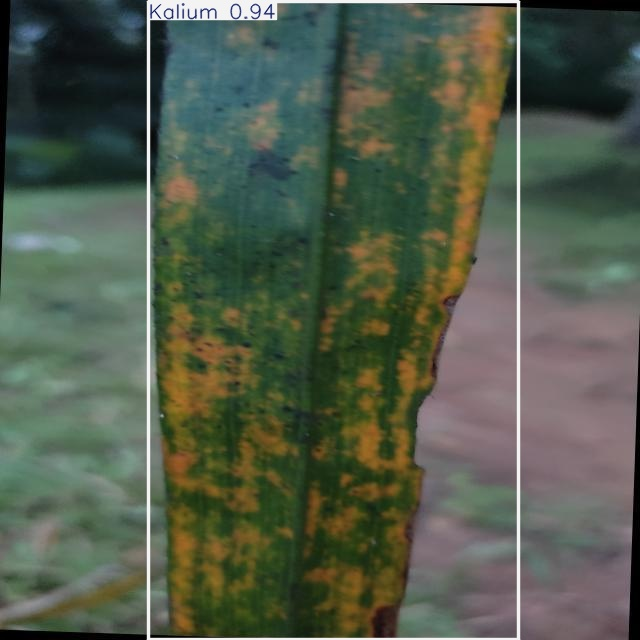Kalium: (149, 1, 518, 640)
